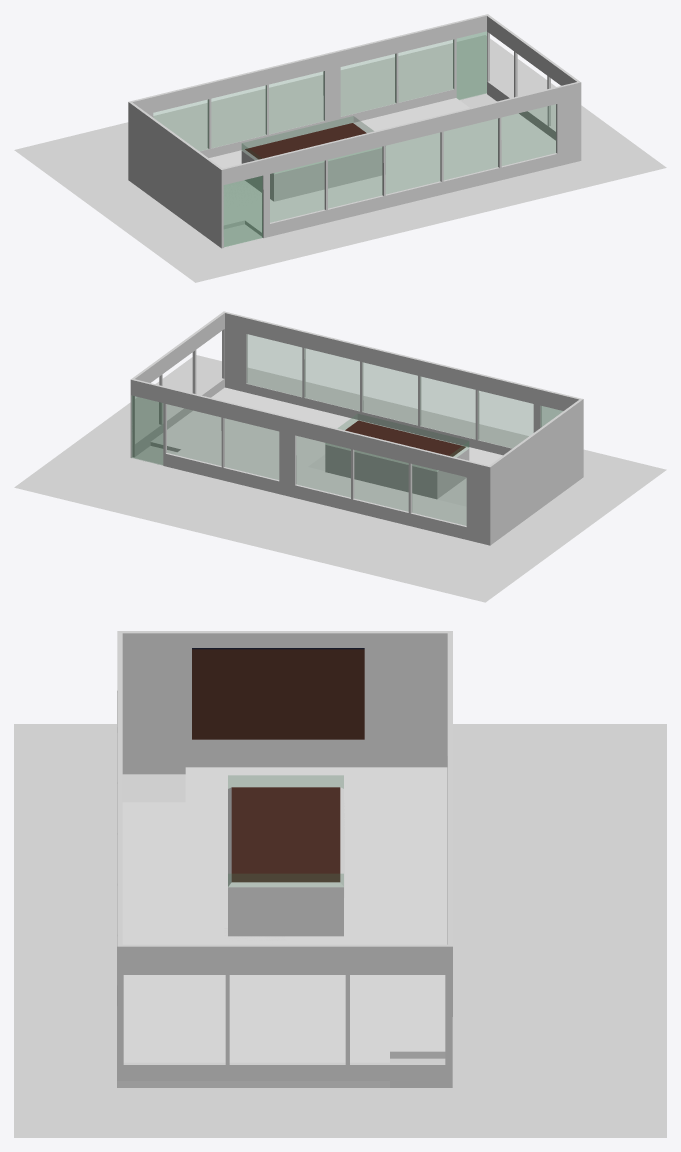
Rendered from exhibition.fbx.
3 views of the same model, one above another, from view 1: azimuth 30°, elevation 25°; view 2: azimuth 150°, elevation 25°; view 3: azimuth 270°, elevation 25° (orthographic). The views are drawn at different scales.
Parts seen in each view (by area): view 1: Plane, Plane.004, Plane.010, Plane.005, Plane.009, Cube.003, Plane.003, Plane.006, Cube.002; view 2: Plane, Plane.004, Plane.010, Plane.009, Plane.005, Cube.003, Plane.006, Cube.002, Plane.001; view 3: Plane, Plane.005, Plane.004, Cube.003, Plane.008, Cube.002.
Part boxes in pixels (x1,y1,x2,y2): Plane: (14,35,666,282); Plane.004: (128,14,581,248); Plane.010: (270,104,555,222); Plane.005: (209,98,555,236); Plane.009: (153,40,453,150); Cube.003: (241,123,385,201); Plane.003: (223,176,262,247); Plane.006: (456,31,486,99); Cube.002: (241,116,381,173); Plane: (14,355,666,602); Plane.004: (130,311,583,545); Plane.010: (247,334,533,447); Plane.009: (167,404,466,525); Plane.005: (150,387,502,525); Cube.003: (325,420,469,499); Plane.006: (131,395,163,465); Cube.002: (325,414,469,471); Plane.001: (371,478,466,506); Plane: (14,724,666,1137); Plane.005: (117,767,447,1087); Plane.004: (117,631,452,1087); Cube.003: (228,787,343,936); Plane.008: (192,648,364,739); Cube.002: (228,775,343,886).
Size of the model in its own units: 1687 by 281 by 1125.
